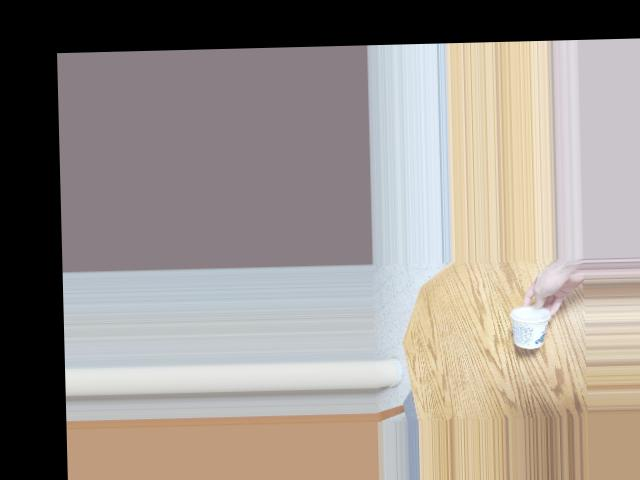cotage: (517, 301, 550, 345)
